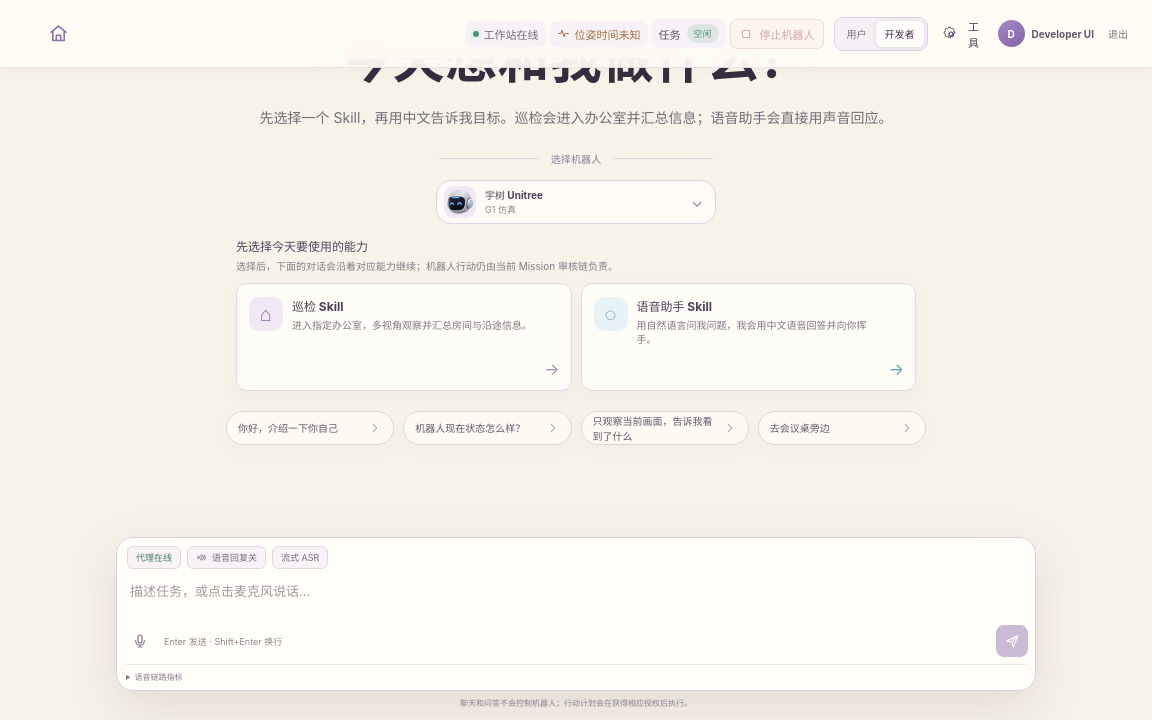
Test: control console › sends a voice transcript directly to the supervisor while keeping PlanDraft review
(page scrolled)
Click the button named "开始语音输入" at (140, 641), box [124, 626, 155, 656]
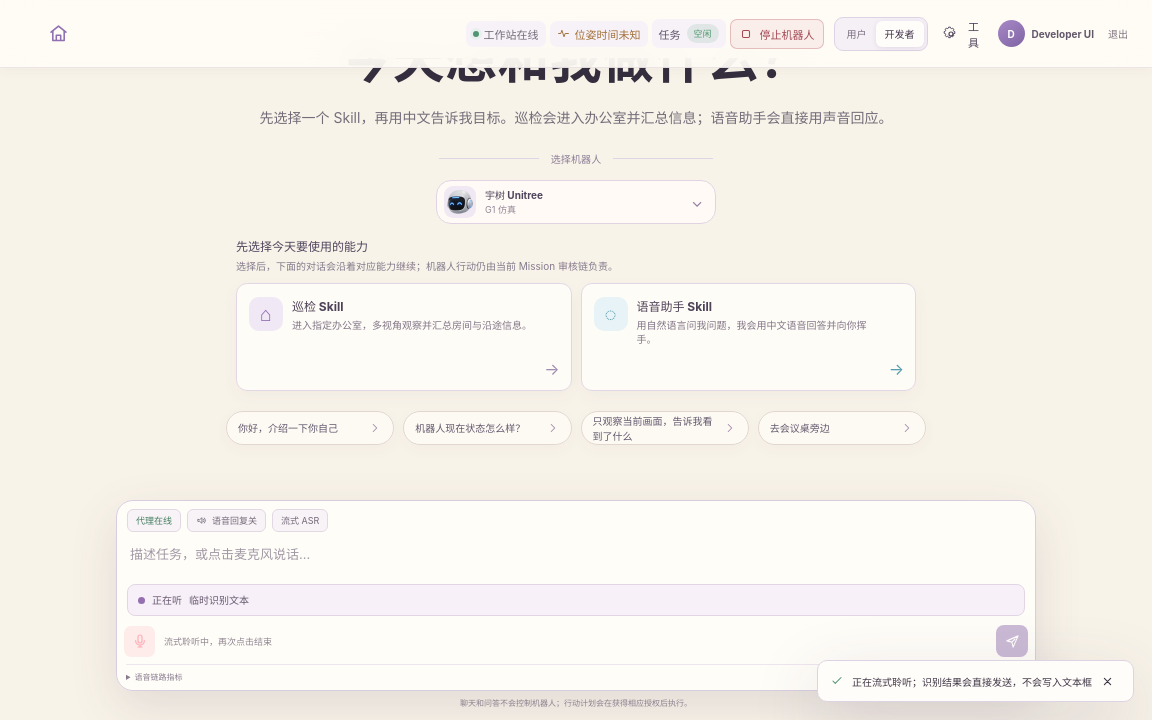
Expected: the text box named "任务描述" is empty, [117, 532, 1035, 584]
Expected: the text "临时识别文本" is shown, [189, 594, 249, 606]
Click the button named "停止录音并发送" at (140, 641), box [124, 626, 155, 656]
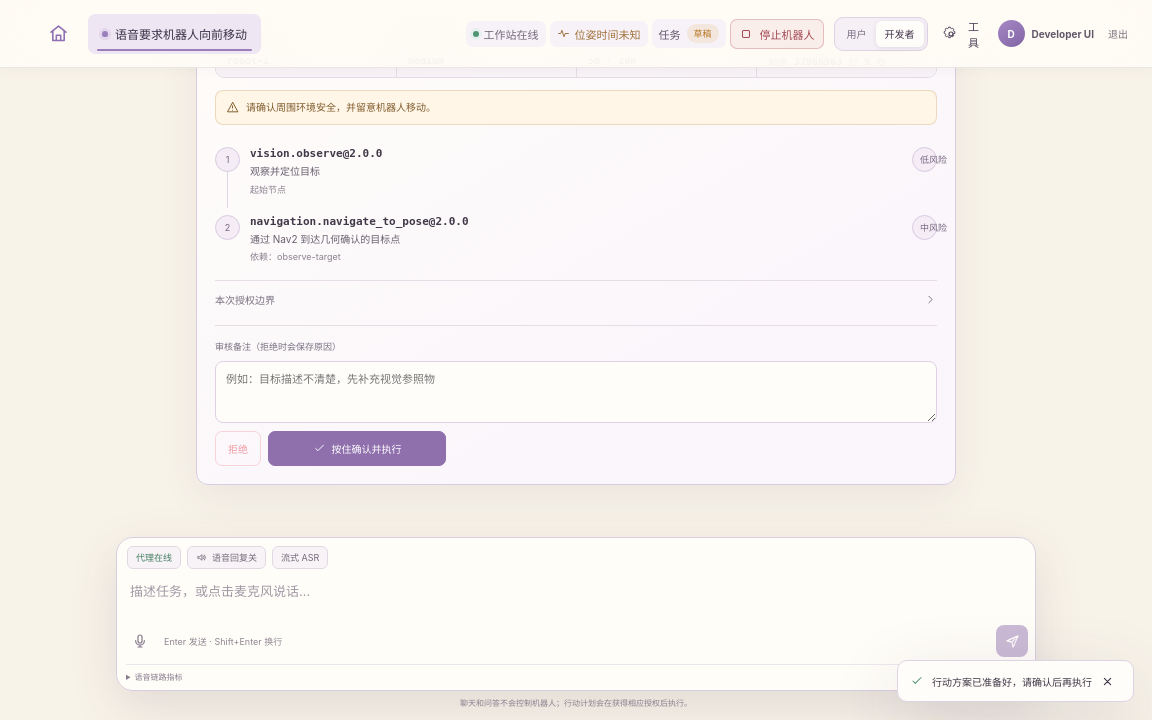
Expected: the text box named "任务描述" is empty, [117, 569, 1035, 621]
Expected: the element named "Mission V2 计划审核" is shown, [196, 58, 956, 485]
Expected: the button "按住确认并执行" is enabled, [268, 431, 446, 466]
